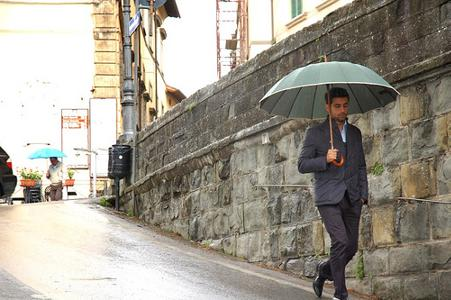person: (299, 87, 369, 299)
